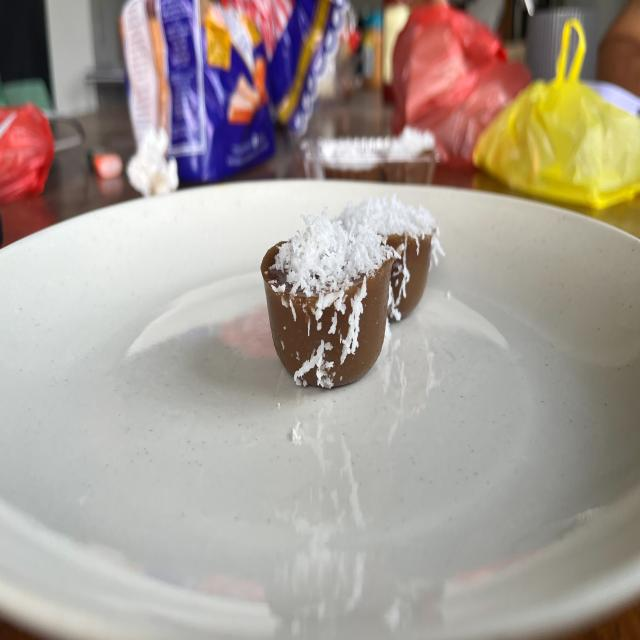Kuih lompang: (261, 211, 394, 389), (340, 196, 444, 320)
